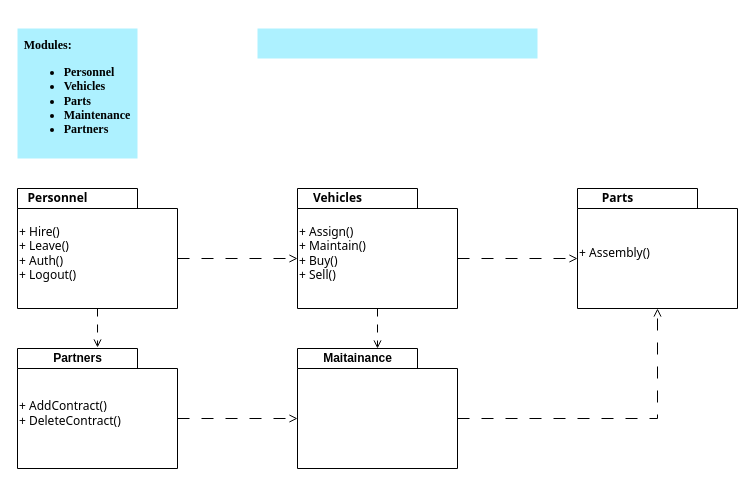
The diagram is 755 pixels wide and 486 high, and some of its shapes have lost their labels. Here are the shapes that lost their labels. From the top down, the box of each, then its label:
(257, 28, 537, 58): Enterprise - Package Diagram
(296, 348, 458, 468): + Start() + Finnish() + Supply()
